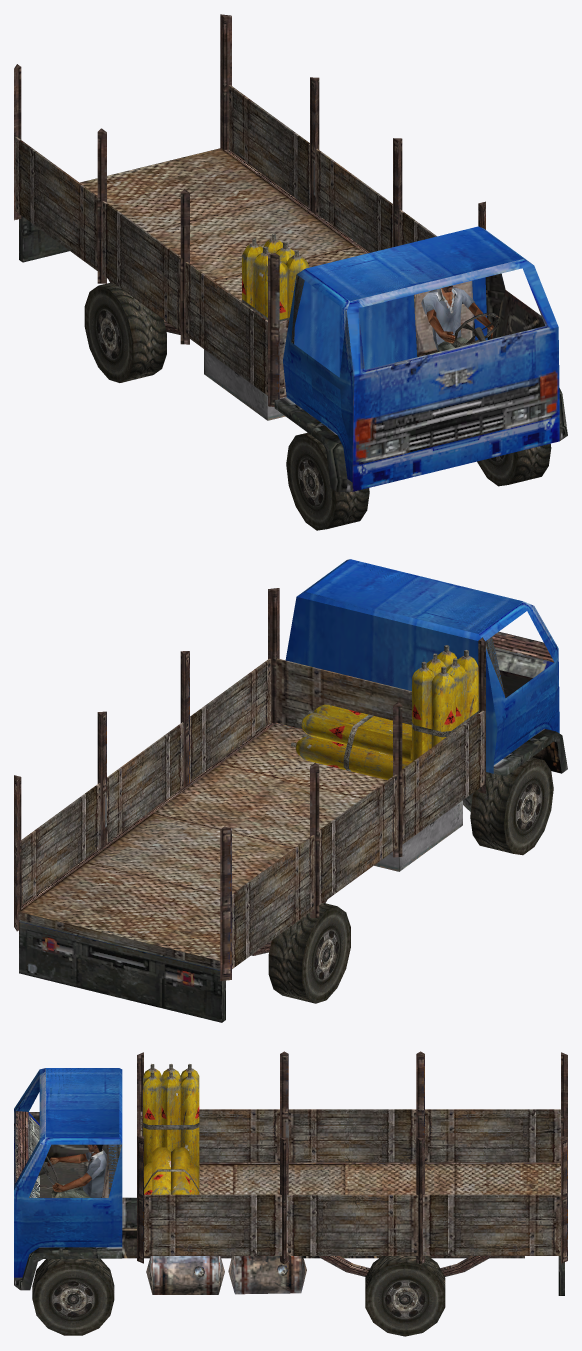
File: CTrk01.glb
The picture shows the model from 3 angles, top to bottom: view 1: azimuth 30°, elevation 25°; view 2: azimuth 150°, elevation 25°; view 3: azimuth 270°, elevation 25°; orthographic projection. The views are drawn at different scales.
Visible parts, largest first — view 1: _CTrk01; view 2: _CTrk01; view 3: _CTrk01.
Part boxes in pixels (box(x1,y1,x2,y2)): _CTrk01: box(14, 14, 567, 530); _CTrk01: box(14, 559, 567, 1022); _CTrk01: box(14, 1051, 567, 1336).
Size of the model in its own units: 3.1 by 3.09 by 7.83.
Materials: 5 (5 with a texture image).
